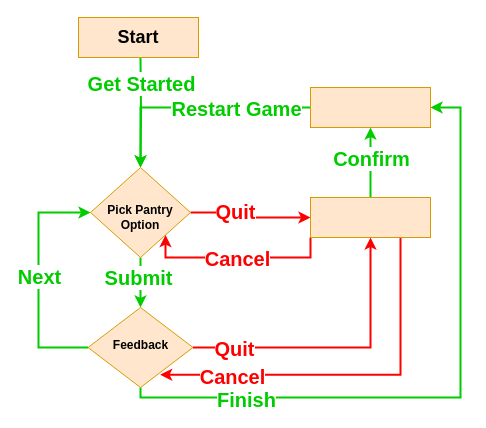
Image size: 486x428. Some labels were removed from this diagram. Here are the shapes that lost their labels. From the top down, the centre of each, then its label:
the point at 370,107: Final Score
the point at 370,217: Are you sure you want to quit?
